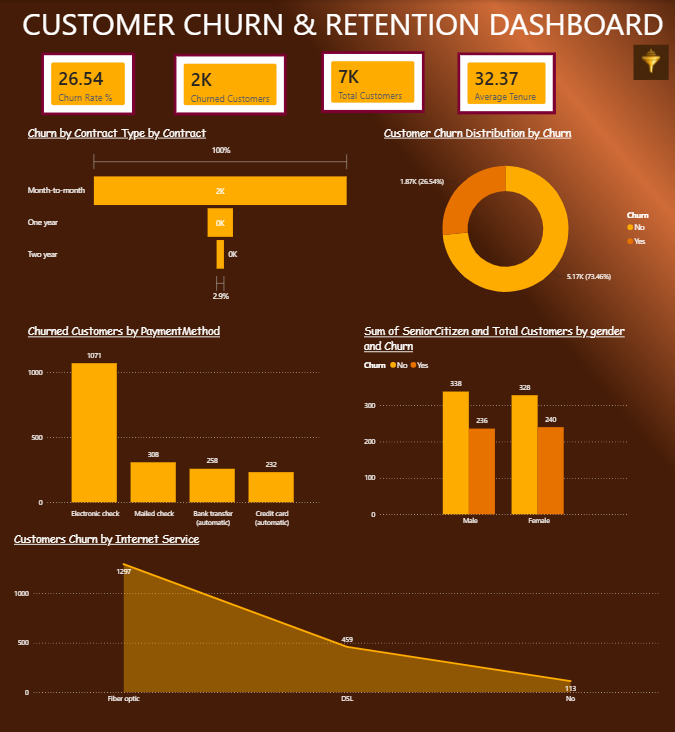

Layout of this report page (visuals, bound fields, positions):
{"tool":"powerbi","page":{"name":"Page 1","canvas":[1200,1300],"ordinal":0},"visuals":[{"type":"cardVisual","fields":{"Data":["WA_Fn-UseC_-Telco-Customer-Churn[1].Total Customers"]},"box":[570.4,91.5,183.1,109.9],"z":0},{"type":"cardVisual","fields":{"Data":["WA_Fn-UseC_-Telco-Customer-Churn[1].Churned Customers"]},"box":[307,94.4,200,109.9],"z":1000},{"type":"actionButton","box":[1119.7,76.1,80.3,70.4],"z":2000},{"type":"cardVisual","fields":{"Data":["WA_Fn-UseC_-Telco-Customer-Churn[1].Churn Rate %"]},"box":[73.2,93,166.2,111.3],"z":3000},{"type":"cardVisual","fields":{"Data":["WA_Fn-UseC_-Telco-Customer-Churn[1].Average Tenure"]},"box":[811.3,93,174.6,109.9],"z":4000},{"type":"donutChart","fields":{"Category":["WA_Fn-UseC_-Telco-Customer-Churn[1].Churn"],"Y":["CountNonNull(WA_Fn-UseC_-Telco-Customer-Churn[1].customerID)"]},"box":[676.1,222.5,498.6,342.3],"z":5000},{"type":"clusteredColumnChart","fields":{"Category":["WA_Fn-UseC_-Telco-Customer-Churn[1].PaymentMethod"],"Y":["WA_Fn-UseC_-Telco-Customer-Churn[1].Churned Customers"]},"box":[43.7,574.6,526.8,367.6],"z":6000},{"type":"funnel","fields":{"Category":["WA_Fn-UseC_-Telco-Customer-Churn[1].Contract"],"Y":["WA_Fn-UseC_-Telco-Customer-Churn[1].Churned Customers"]},"box":[43.7,222.5,580.3,319.7],"z":7000},{"type":"areaChart","title":" Customers Churn by Internet Service ","fields":{"Category":["WA_Fn-UseC_-Telco-Customer-Churn[1].InternetService"],"Y":["WA_Fn-UseC_-Telco-Customer-Churn[1].Churned Customers"]},"box":[19.7,942.3,1154.9,315.5],"z":8000},{"type":"clusteredColumnChart","fields":{"Series":["WA_Fn-UseC_-Telco-Customer-Churn[1].Churn"],"Y":["Sum(WA_Fn-UseC_-Telco-Customer-Churn[1].SeniorCitizen)"],"Category":["WA_Fn-UseC_-Telco-Customer-Churn[1].gender"]},"box":[640.8,574.6,478.9,367.6],"z":9000},{"type":"textbox","box":[19.7,0,1180.3,93],"z":10000}]}

Visuals, with their boxes in screenshot pixels (x1, y1, x2, y2), scaled from the page's 1200x1300 canvas onto the 675x732 screenshot:
cardVisual - WA_Fn-UseC_-Telco-Customer-Churn[1].Total Customers: [321, 52, 424, 113]
cardVisual - WA_Fn-UseC_-Telco-Customer-Churn[1].Churned Customers: [173, 53, 285, 115]
actionButton: [630, 43, 674, 82]
cardVisual - WA_Fn-UseC_-Telco-Customer-Churn[1].Churn Rate %: [41, 52, 135, 115]
cardVisual - WA_Fn-UseC_-Telco-Customer-Churn[1].Average Tenure: [456, 52, 555, 114]
donutChart - WA_Fn-UseC_-Telco-Customer-Churn[1].Churn x CountNonNull(WA_Fn-UseC_-Telco-Customer-Churn[1].customerID): [380, 125, 661, 318]
clusteredColumnChart - WA_Fn-UseC_-Telco-Customer-Churn[1].PaymentMethod x WA_Fn-UseC_-Telco-Customer-Churn[1].Churned Customers: [25, 324, 321, 531]
funnel - WA_Fn-UseC_-Telco-Customer-Churn[1].Contract x WA_Fn-UseC_-Telco-Customer-Churn[1].Churned Customers: [25, 125, 351, 305]
" Customers Churn by Internet Service " areaChart: [11, 531, 661, 708]
clusteredColumnChart - WA_Fn-UseC_-Telco-Customer-Churn[1].Churn x Sum(WA_Fn-UseC_-Telco-Customer-Churn[1].SeniorCitizen): [360, 324, 630, 531]
textbox: [11, 0, 674, 52]
